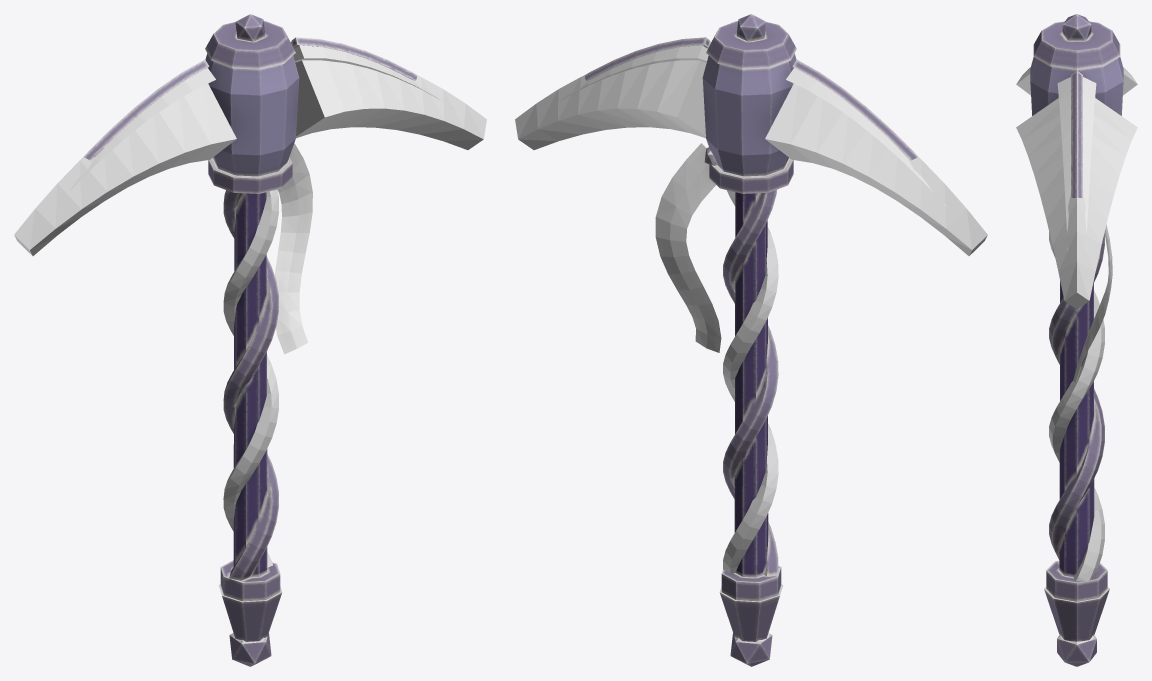
Rendered from PrismPickaxe.glb.
3 renders of one model, left to right at view 1: azimuth 30°, elevation 25°; view 2: azimuth 150°, elevation 25°; view 3: azimuth 270°, elevation 25°, orthographic.
Visible parts, largest first — view 1: Body__Tex, Head__Crystal, Head__Accent; view 2: Body__Tex, Head__Crystal, Head__Accent; view 3: Body__Tex, Head__Crystal, Head__Accent.
Boxes of the visible parts, x1,y1,x2,y2 form: Body__Tex: (83,14,417,666); Head__Crystal: (14,60,486,567); Head__Accent: (55,41,453,206); Body__Tex: (584,14,918,666); Head__Crystal: (515,60,987,573); Head__Accent: (548,41,946,206); Body__Tex: (1030,14,1123,666); Head__Crystal: (1016,67,1137,582); Head__Accent: (1057,77,1096,250).
Size of the model in its own units: 3.23 by 4.26 by 0.72.
1 material, 1 textured.
